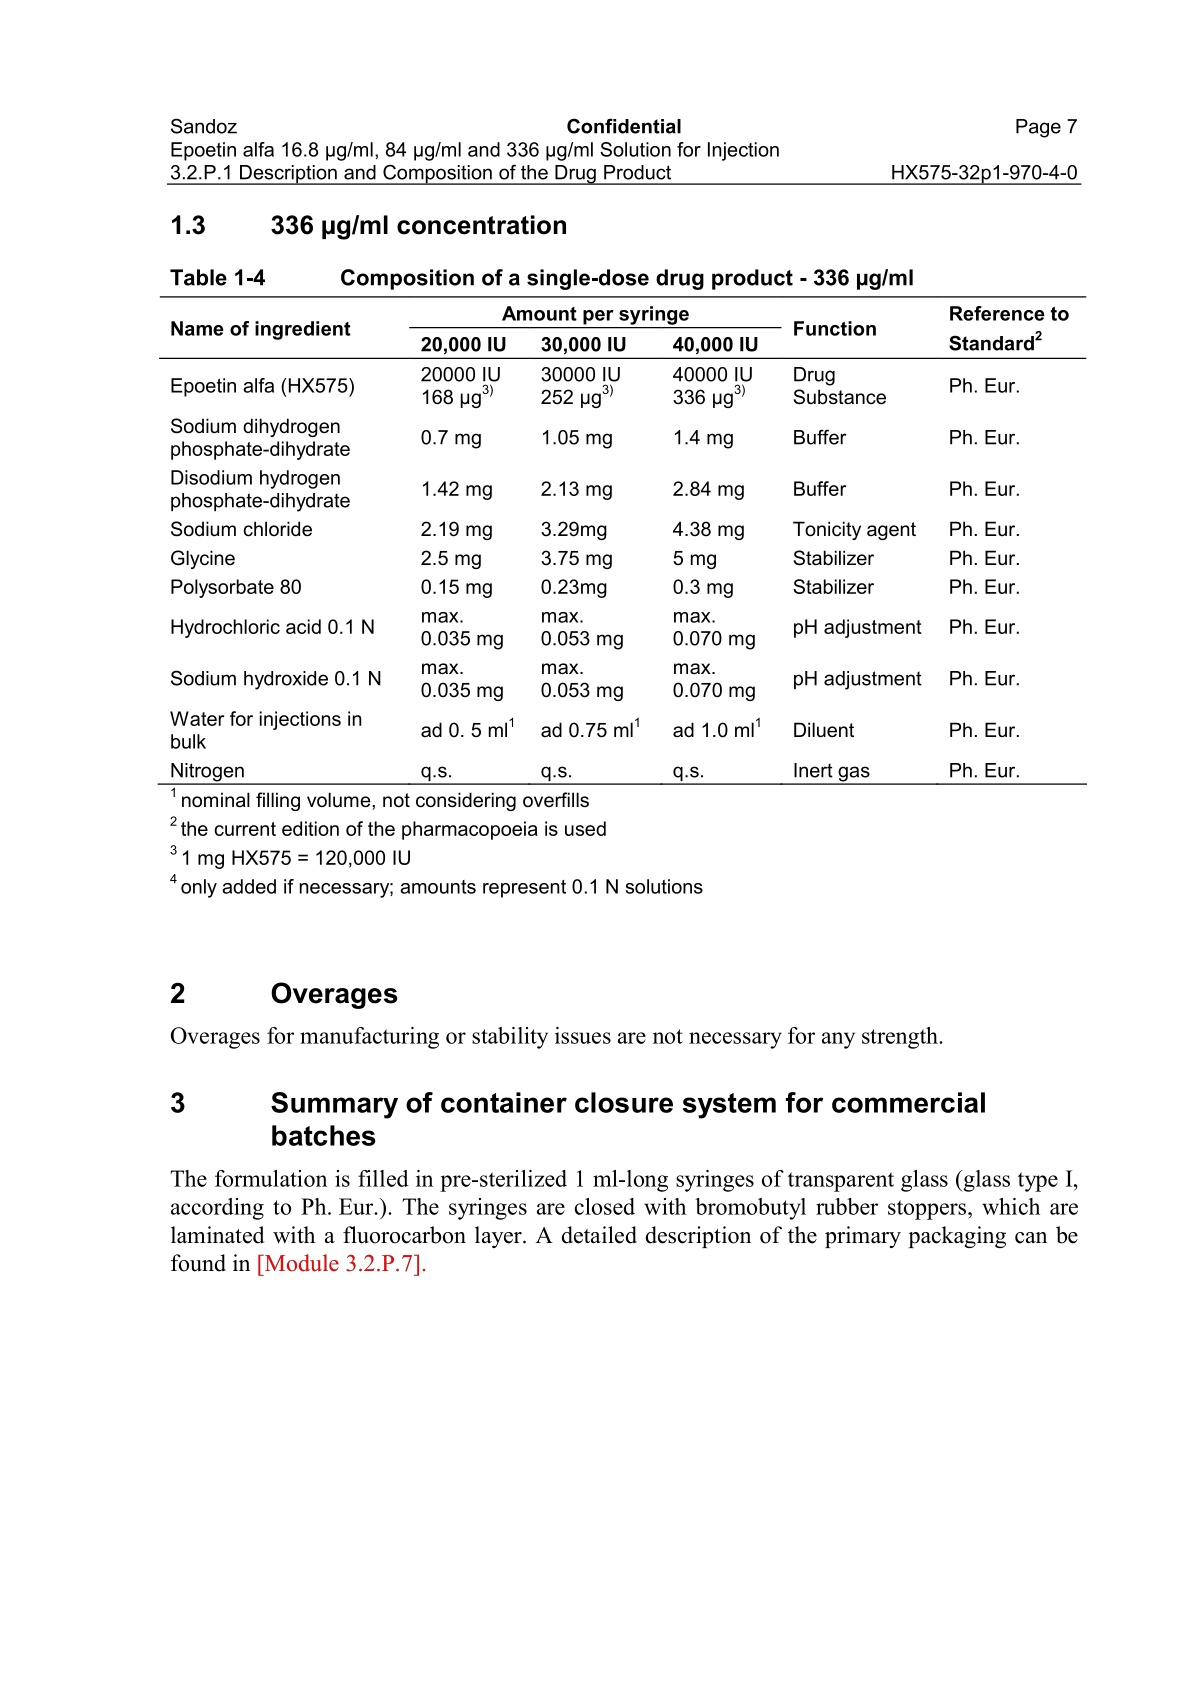partial_lined_merged_cells: (157, 294, 1089, 787)
